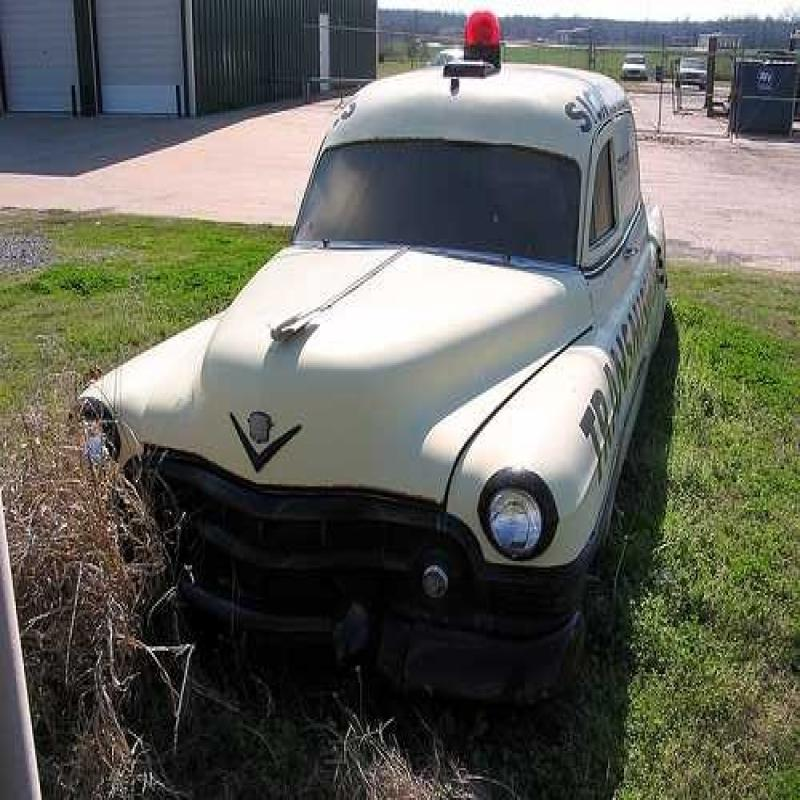AmbulanceSiren: (456, 0, 516, 67)
